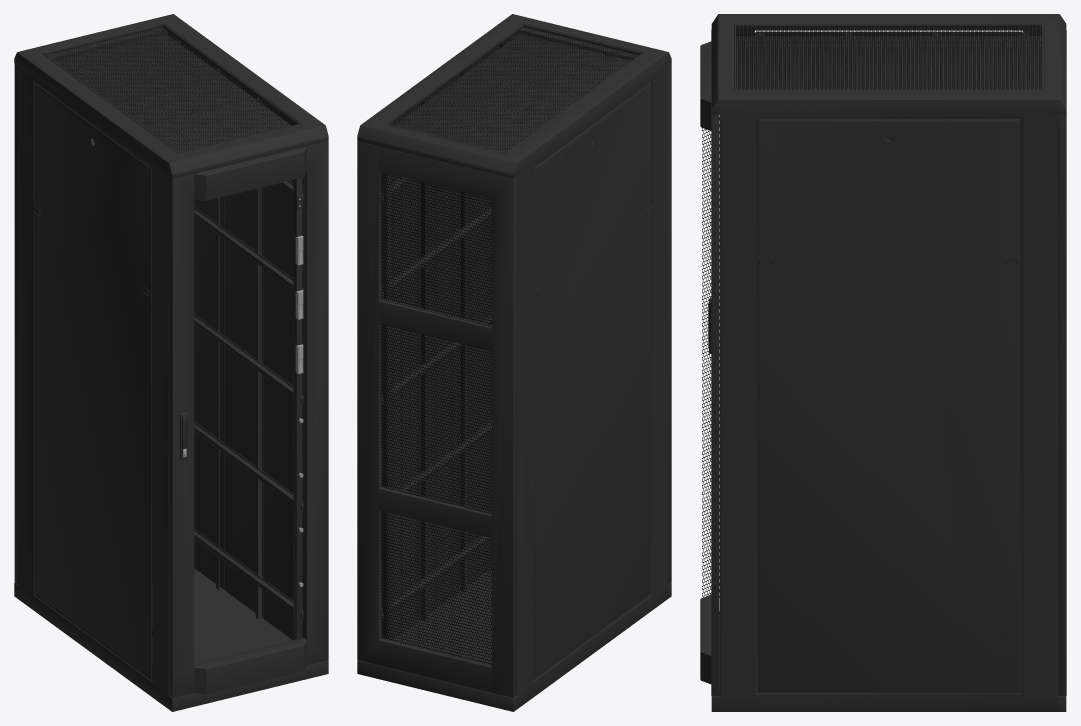
File: jigui.glb
3 renders of one model, left to right at view 1: azimuth 30°, elevation 25°; view 2: azimuth 150°, elevation 25°; view 3: azimuth 270°, elevation 25°, orthographic. The views are drawn at different scales.
Parts seen in each view (by area): view 1: 机柜外壳, 机柜门; view 2: 机柜外壳, 机柜门; view 3: 机柜外壳, 机柜门.
Boxes of the visible parts, left/top/right/bottom form: 机柜外壳: left=14, top=14, right=328, bottom=711; 机柜门: left=169, top=141, right=328, bottom=697; 机柜外壳: left=357, top=14, right=671, bottom=711; 机柜门: left=518, top=30, right=671, bottom=584; 机柜外壳: left=711, top=14, right=1066, bottom=711; 机柜门: left=700, top=30, right=719, bottom=696.
Bounding box in the file's own units: 0.6083 × 2 × 1.08.
11 materials, 1 textured.
